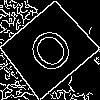O: (24, 23, 83, 85)
